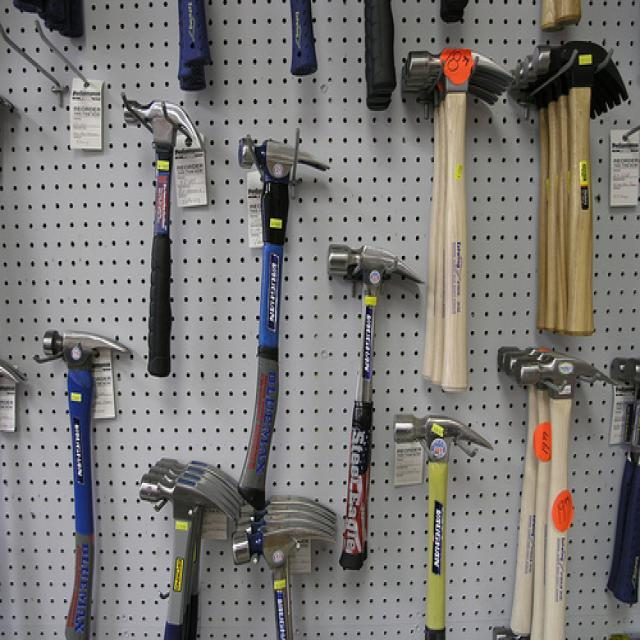hammer: (402, 30, 518, 402), (228, 120, 330, 502), (496, 336, 620, 640), (316, 231, 429, 558), (30, 323, 142, 640), (524, 36, 631, 350), (119, 88, 208, 392), (391, 403, 503, 640), (135, 454, 238, 640), (226, 514, 344, 640)
